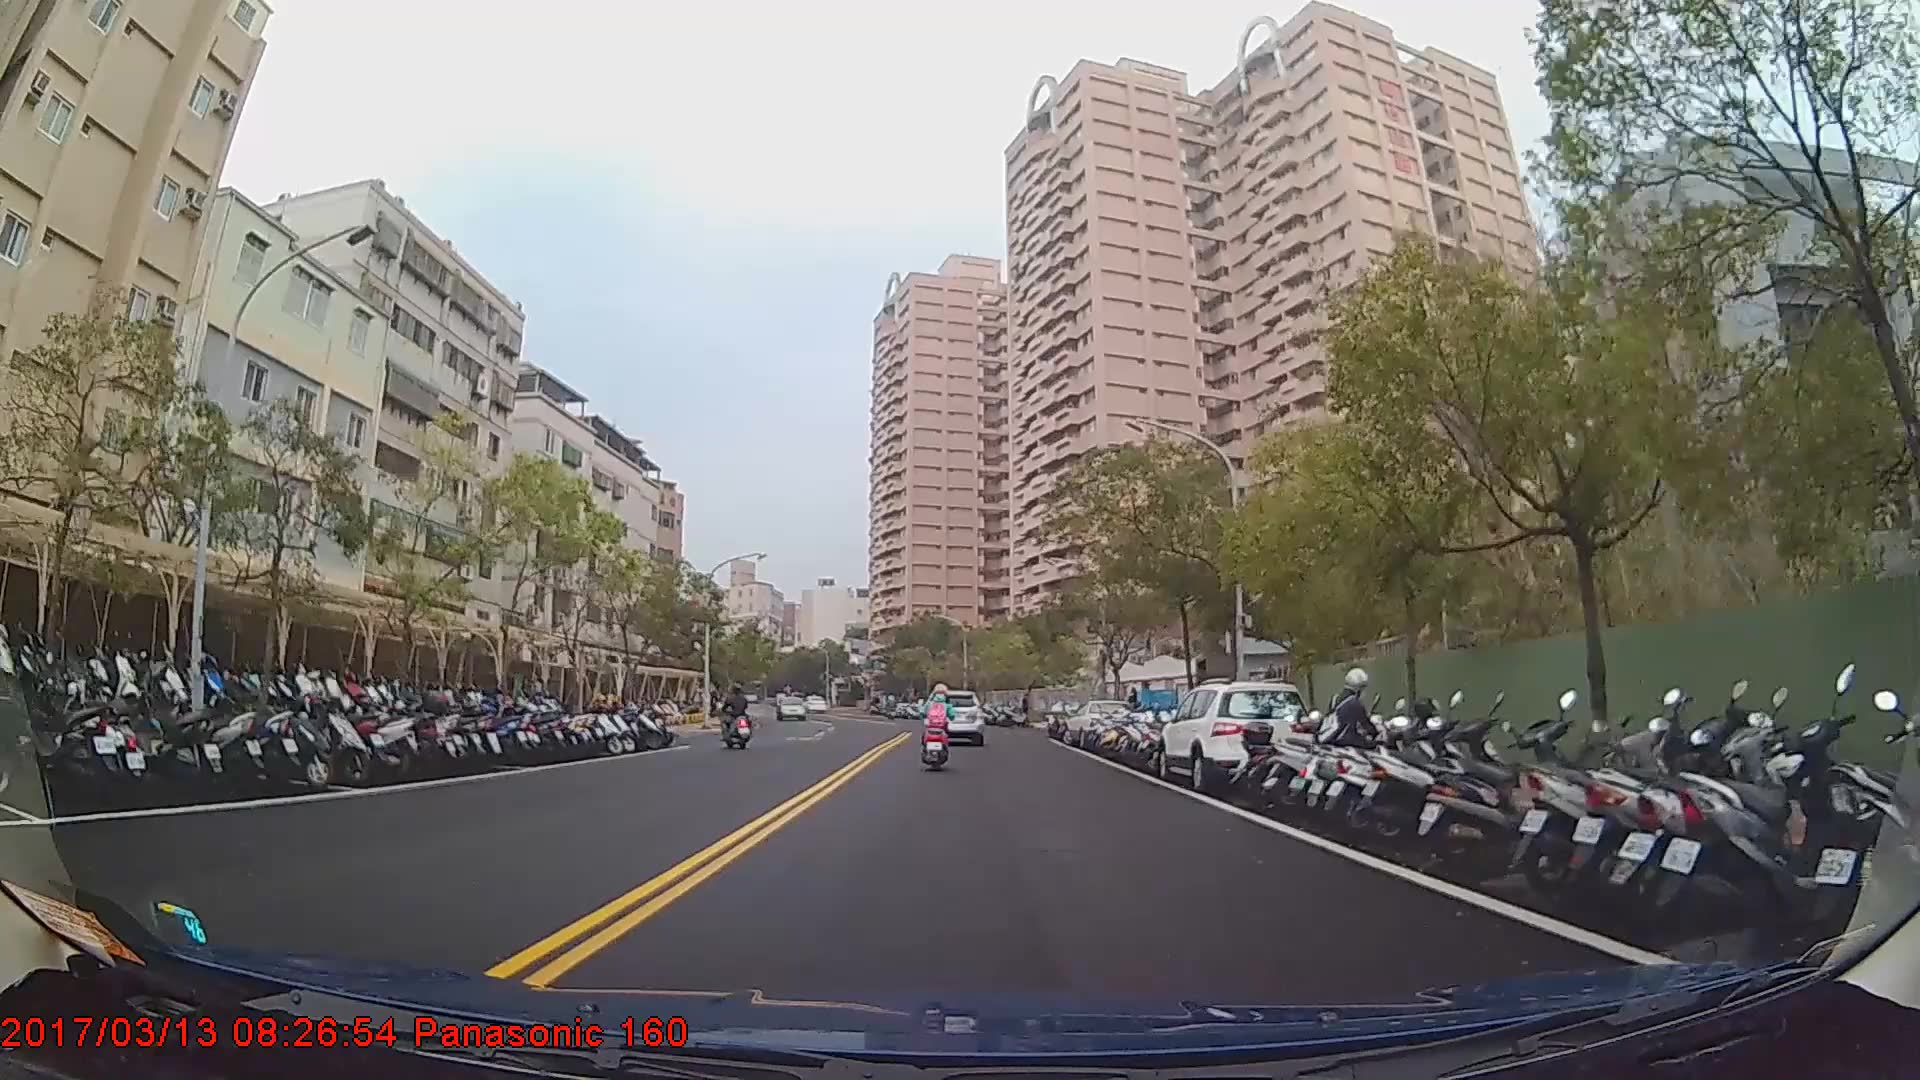rider: (919, 680, 956, 774), (720, 680, 751, 744)
vehicle: (1155, 680, 1312, 791), (1060, 697, 1139, 750), (926, 688, 983, 745), (773, 694, 806, 718)
